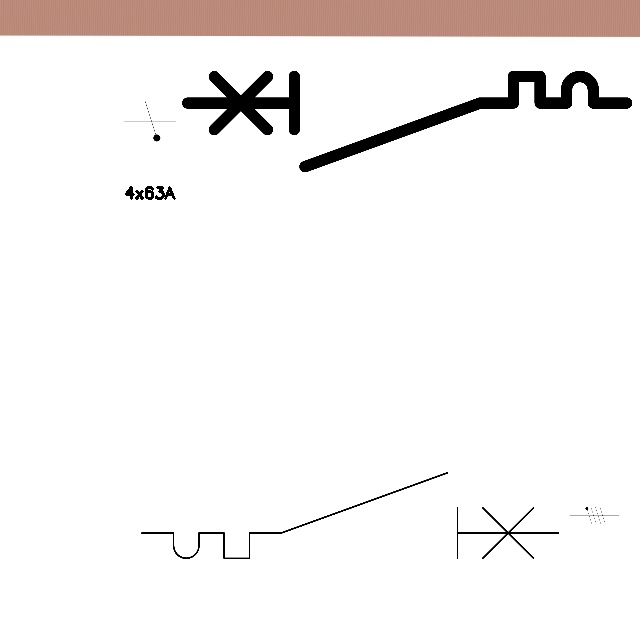interruptor_termomagnetico: (176, 65, 638, 178), (131, 462, 569, 569)
